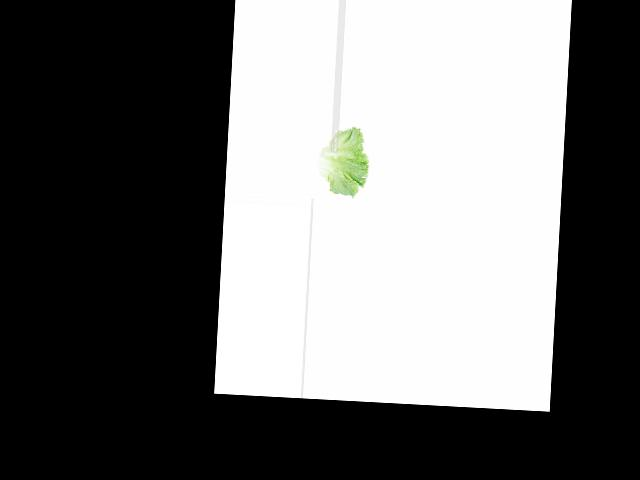lettuce: (315, 128, 369, 197)
